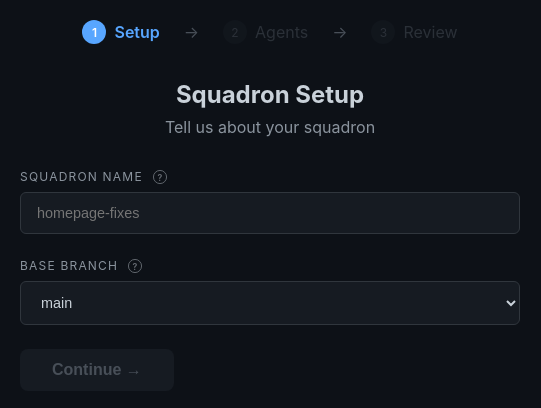
Test: WizardLayout › clickable step navigation › enables Agents step button once a valid squadron name is typed
Expected: the heading "Squadron Setup" is shown, x1=176 y1=80 x2=364 y2=109
Type "test-squad" into the field labelled "Squadron Name" at (270, 213), box x1=20 y1=192 x2=520 y2=234
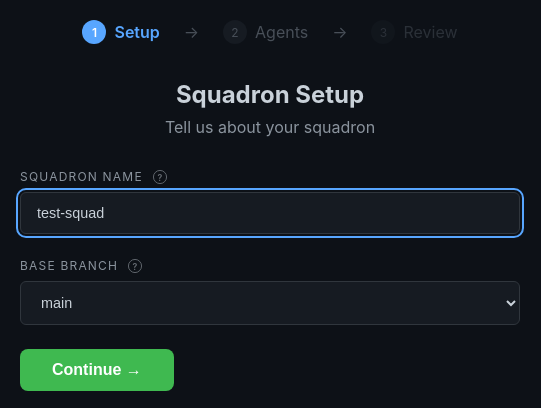
Expected: the button "3 Review" is disabled, x1=364 y1=16 x2=466 y2=48
Expected: the button with aria-label "Go to Agents" is enabled, x1=215 y1=16 x2=316 y2=48
